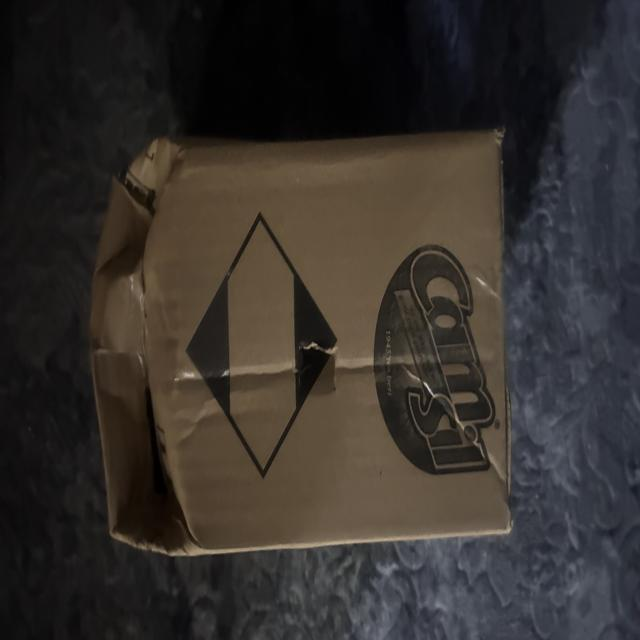damaged: (92, 137, 513, 554), (85, 135, 203, 556), (294, 333, 340, 401)
